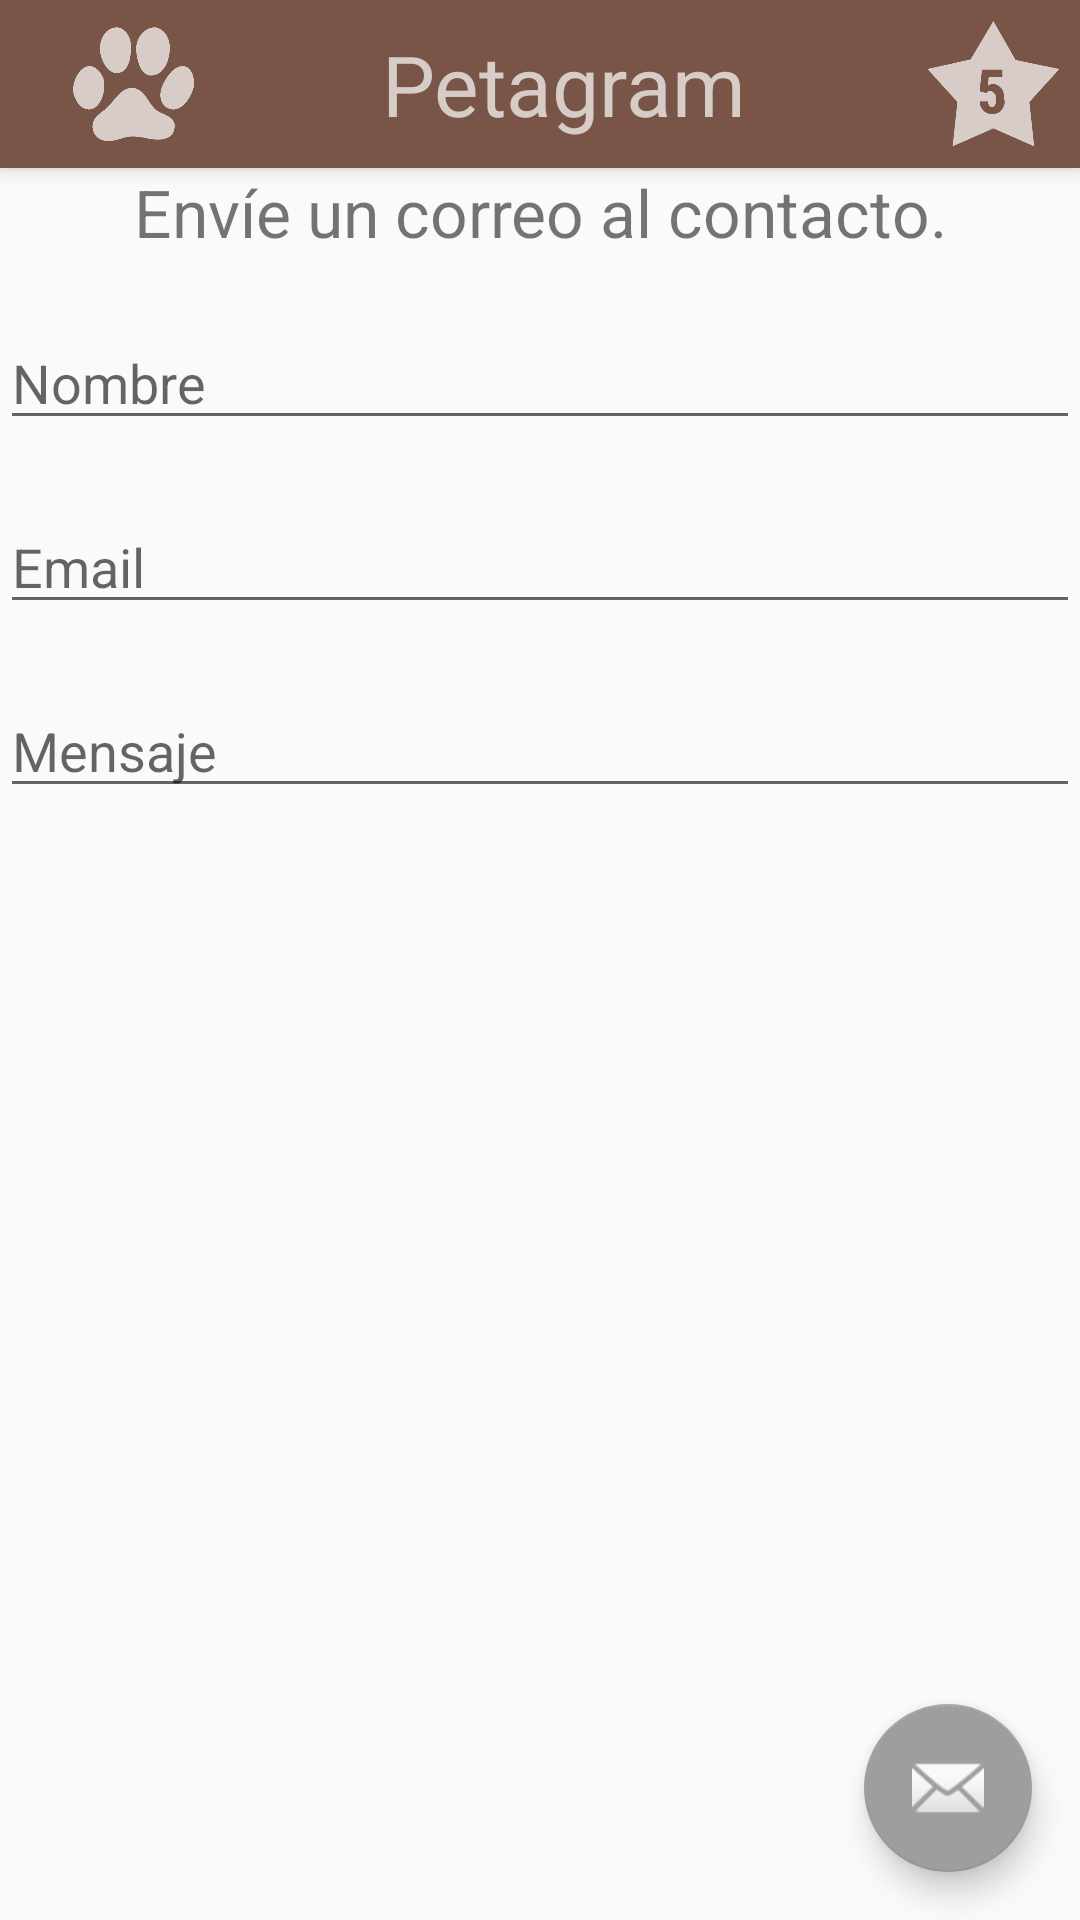

Icon bounding boxes for this 1080x1920 phone screenshot, format box=[x1, y1, x2, y2]:
email: box=[864, 1704, 1032, 1872]
Favoritos: box=[928, 21, 1059, 146]
